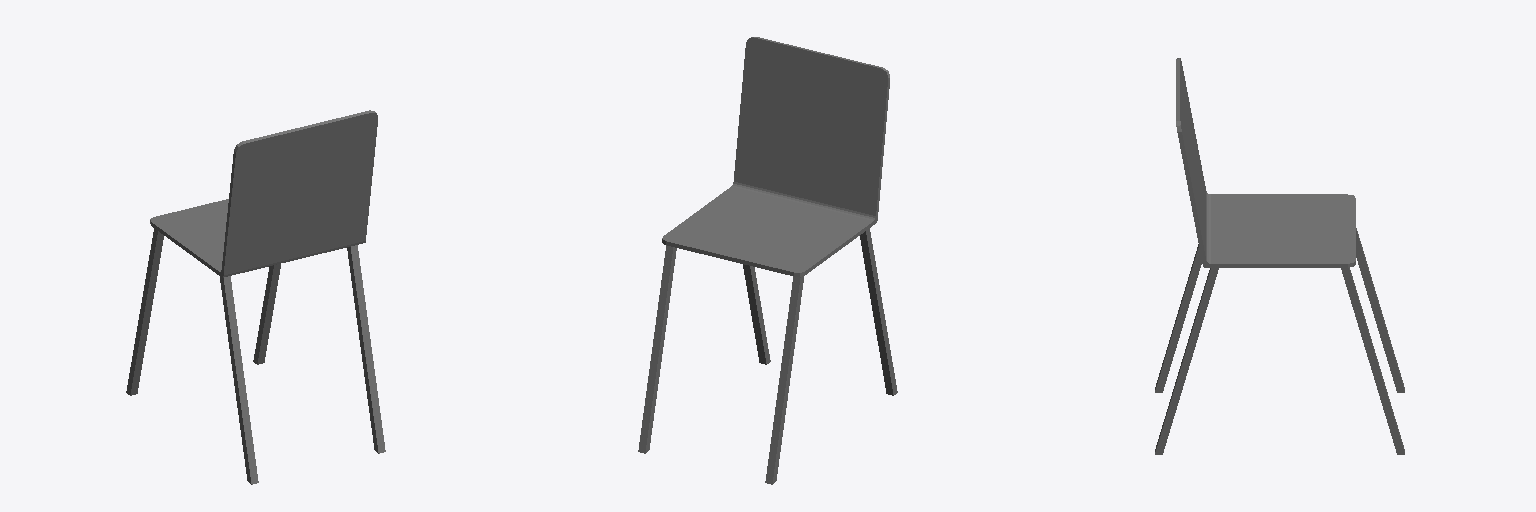
Rendered from SMChair.obj.
3 renders of one model, left to right at view 1: azimuth 30°, elevation 25°; view 2: azimuth 150°, elevation 25°; view 3: azimuth 270°, elevation 25°, orthographic.
Visible parts, largest first — view 1: Chair; view 2: Chair; view 3: Chair.
Part boxes in pixels (left/top/right/bottom): Chair: left=126, top=110, right=385, bottom=484; Chair: left=638, top=37, right=897, bottom=484; Chair: left=1155, top=58, right=1404, bottom=454.
Size of the model in its own units: 0.8751 by 1.95 by 1.33.